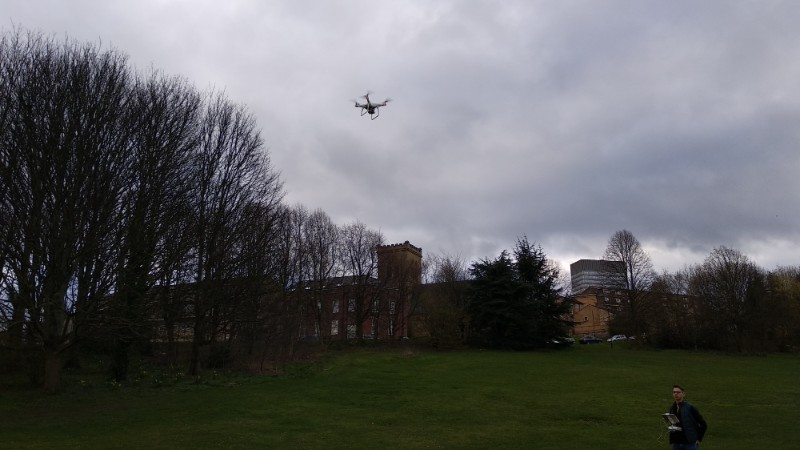drone: (352, 91, 392, 120)
